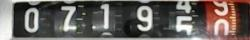digits: (173, 1, 197, 36), (210, 0, 230, 38), (135, 5, 153, 31), (60, 5, 76, 31), (24, 6, 38, 32), (100, 4, 109, 28)
